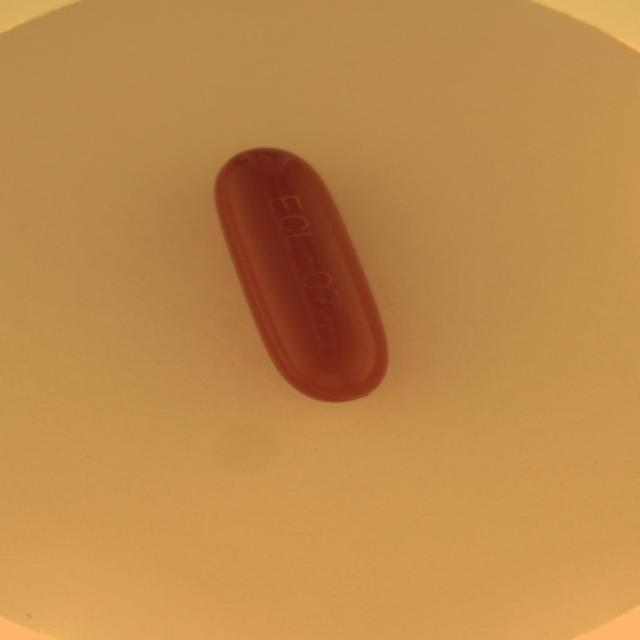Oval: (210, 143, 393, 408)
